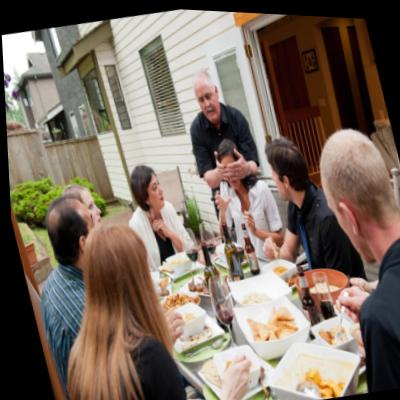angry: (191, 74, 221, 121)
netural: (142, 170, 165, 209)
surprise: (78, 189, 103, 230)
